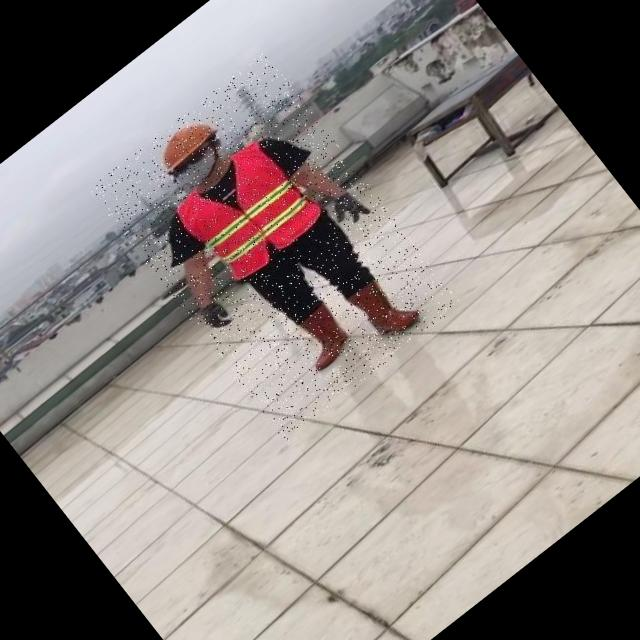hard_hat: (146, 106, 224, 177)
safety_vest: (170, 135, 328, 291)
vehicle: (88, 51, 462, 441)
work_boots: (343, 268, 424, 350), (285, 299, 360, 374)
